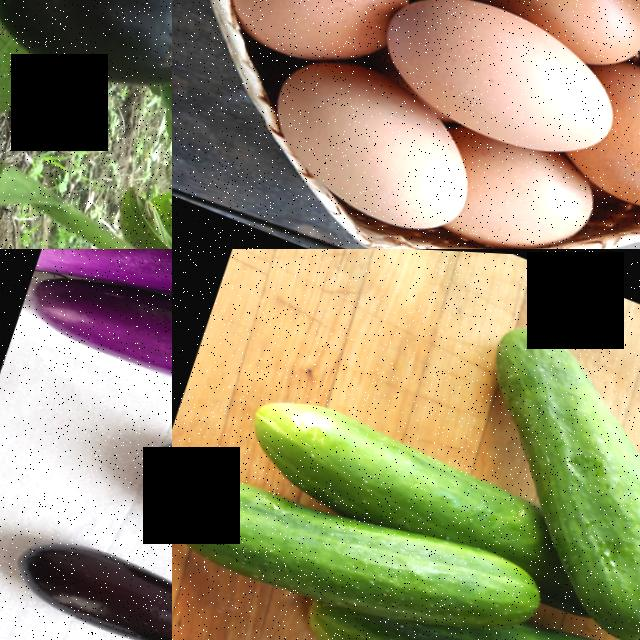cucumber: (172, 429, 553, 640), (243, 379, 553, 564), (464, 311, 640, 527), (523, 398, 640, 640)
egg_: (368, 0, 636, 174), (261, 54, 491, 247), (443, 123, 601, 249), (209, 0, 418, 88), (447, 0, 640, 56), (582, 55, 640, 226)
eggplant: (25, 249, 172, 483), (0, 0, 172, 127), (4, 517, 172, 640)
